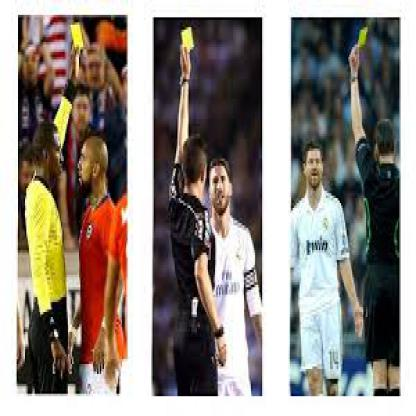foul: (330, 16, 382, 140), (56, 16, 105, 142), (167, 23, 212, 142)
